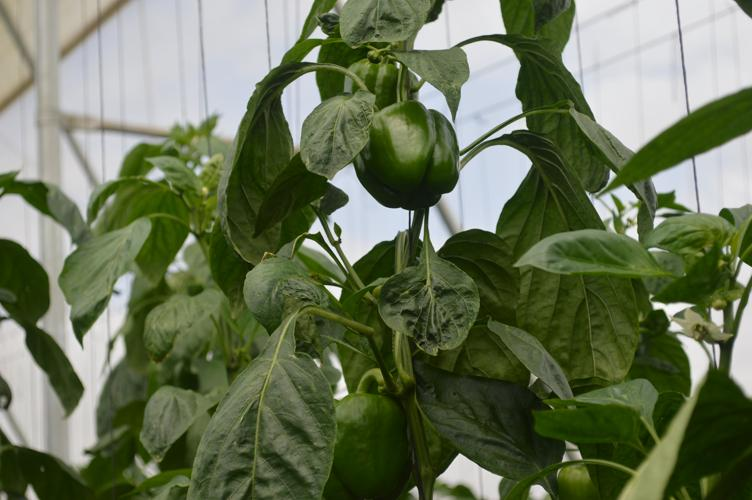BellPepper: (350, 104, 457, 213), (326, 391, 411, 500), (334, 59, 403, 112)
